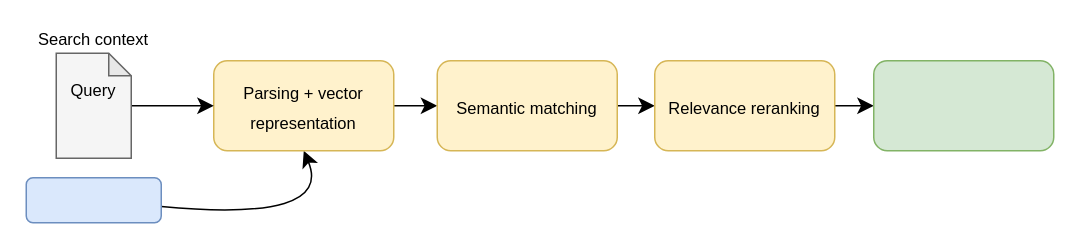
The diagram is 1080 pixels wide and 249 high, and some of its shapes have lost their labels. Here are the shapes that lost their labels. From the top down, the box of each, then its label:
(872, 59, 1054, 151): Results
(25, 176, 161, 223): target document
